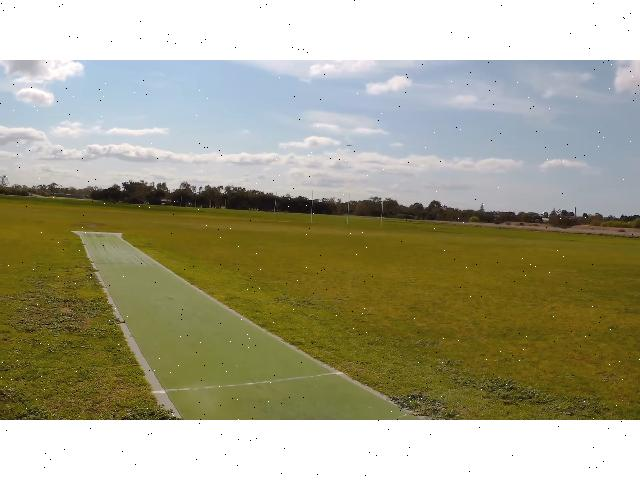Anti-Drone: (342, 137, 362, 154)
